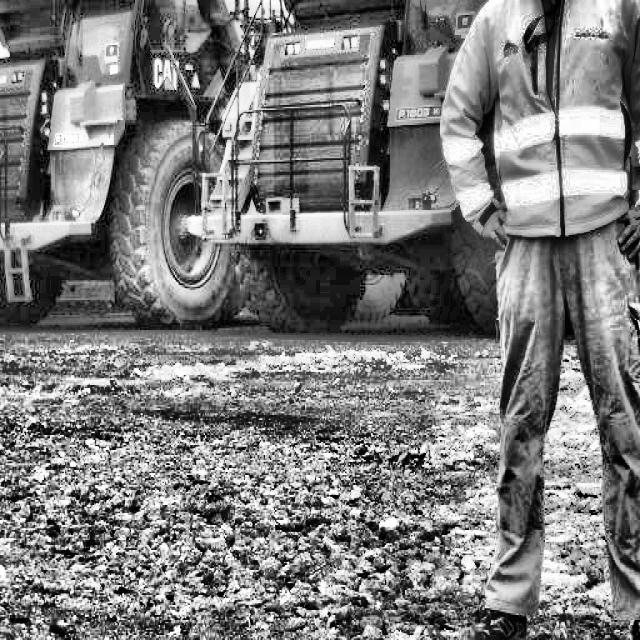dump_truck: (192, 0, 528, 298), (0, 0, 195, 340)
